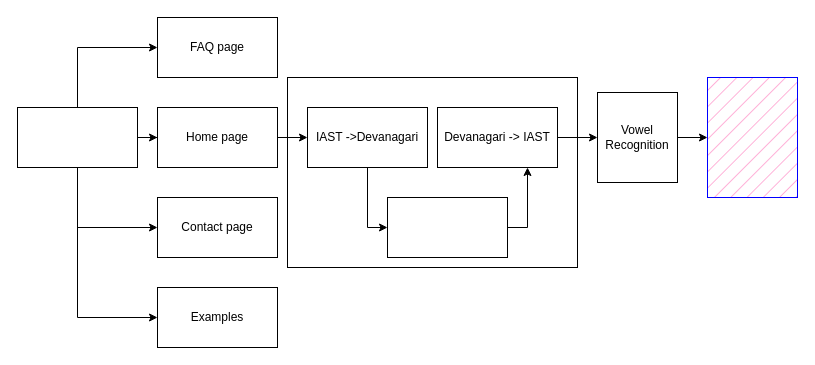
The diagram is 815 pixels wide and 365 high, and some of its shapes have lost their labels. The shapes that lost their labels are listed below. From the top down, each one's centre as x and y in pixels, then its label:
At [77,137]: "Streamlit UI".
At [752,137]: "Sandhi Recogniton".
At [447,227]: "Sandhi-split model".
